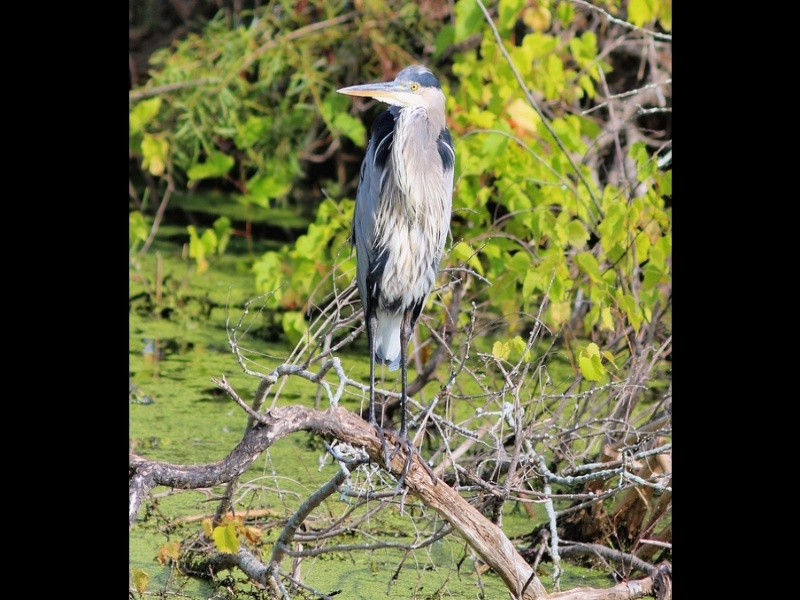heron: (336, 63, 455, 465)
